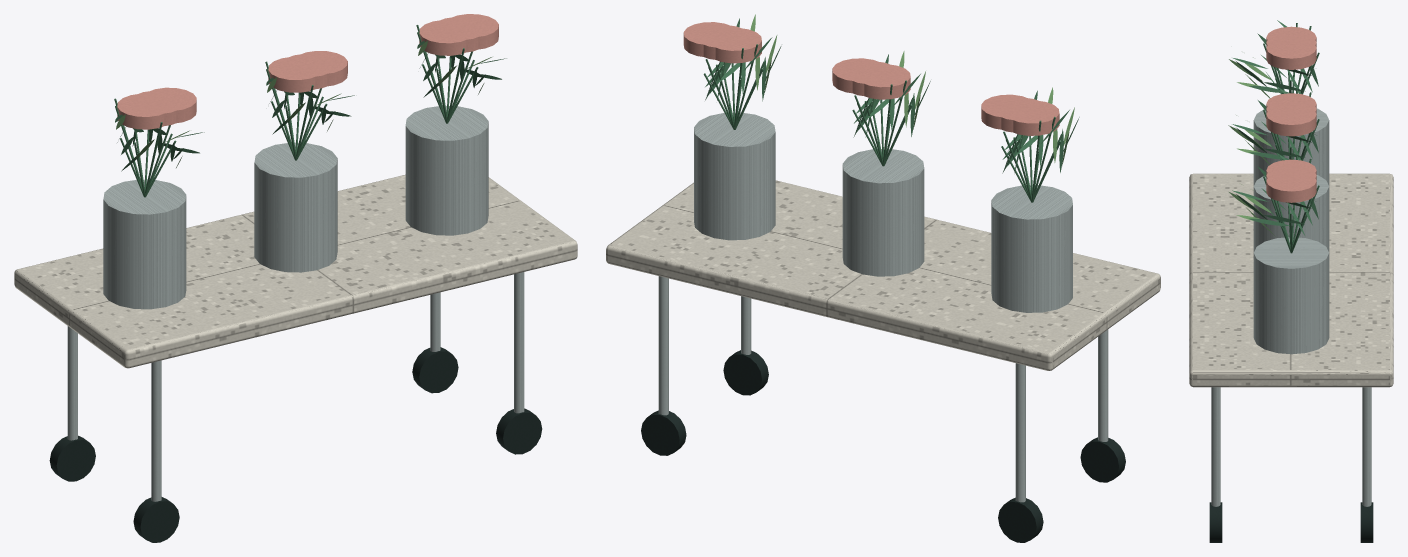
Rendered from detail-flower-cart-1.glb.
The picture shows the model from 3 angles, left to right: view 1: azimuth 30°, elevation 25°; view 2: azimuth 150°, elevation 25°; view 3: azimuth 270°, elevation 25°; orthographic projection. The views are drawn at different scales.
Visible parts, largest first — view 1: cart_shelf, flower_bucket (×3), flowers (×8), wheel (×4), cart_leg (×3); view 2: cart_shelf, flower_bucket (×3), flowers (×9), wheel (×4), cart_leg (×3); view 3: cart_shelf, flower_bucket (×3), flowers (×9), cart_leg (×2), wheel (×2).
Part boxes in pixels (<box>): cart_shelf: <box>14,174,577,368</box>; flower_bucket (×3): <box>103,106,488,309</box>; flowers (×8): <box>117,14,498,129</box>; wheel (×4): <box>49,347,542,542</box>; cart_leg (×3): <box>67,272,524,501</box>; cart_shelf: <box>606,180,1160,370</box>; flower_bucket (×3): <box>694,112,1072,312</box>; flowers (×9): <box>683,22,1059,135</box>; wheel (×4): <box>641,350,1125,542</box>; cart_leg (×3): <box>658,276,1108,502</box>; cart_shelf: <box>1189,173,1393,387</box>; flower_bucket (×3): <box>1253,108,1329,354</box>; flowers (×9): <box>1266,26,1316,202</box>; cart_leg (×2): <box>1211,387,1371,506</box>; wheel (×2): <box>1209,502,1373,542</box>.
Bounding box in the file's own units: 1.5 × 1.29 × 0.65.
Materials: 6 (6 with a texture image).
